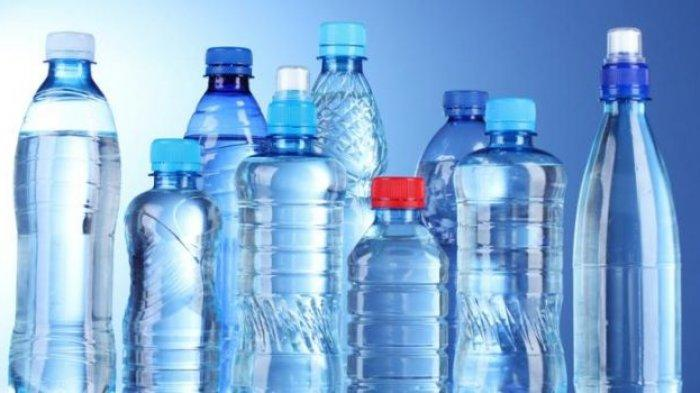HDPE: (599, 29, 653, 99), (265, 63, 317, 135), (368, 174, 428, 210), (148, 136, 204, 173), (315, 22, 369, 59), (483, 96, 538, 129), (203, 44, 255, 75), (44, 29, 97, 59), (443, 89, 490, 117)
PETE: (5, 59, 123, 393), (570, 98, 684, 393), (451, 129, 571, 393), (231, 136, 347, 393), (121, 173, 224, 393), (344, 209, 452, 393)
